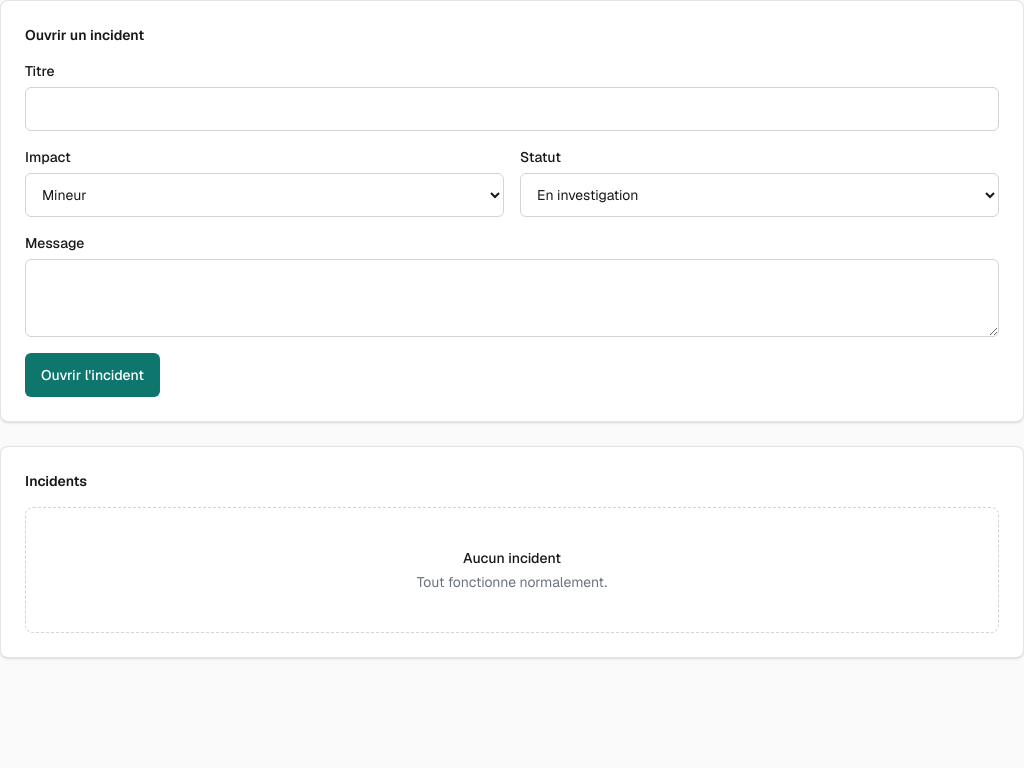
Test: StatusIncidentsPage › ouvre un nouvel incident
This screenshot has width=1024, height=768.
Check: the text "Aucun incident" is shown, box [463, 548, 561, 568]
Type "Panne" into the field labelled "Titre" at (512, 109), box [25, 87, 999, 131]
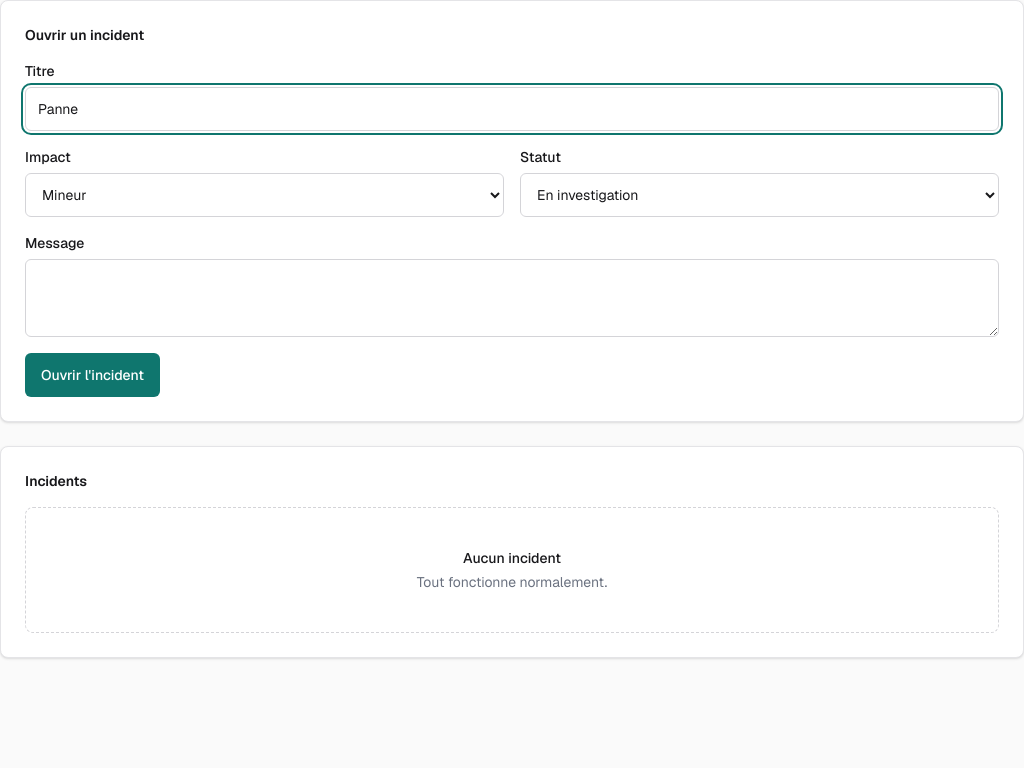
Type "Panne détectée." into the text box labelled "Message" at (512, 298), box [25, 259, 999, 337]
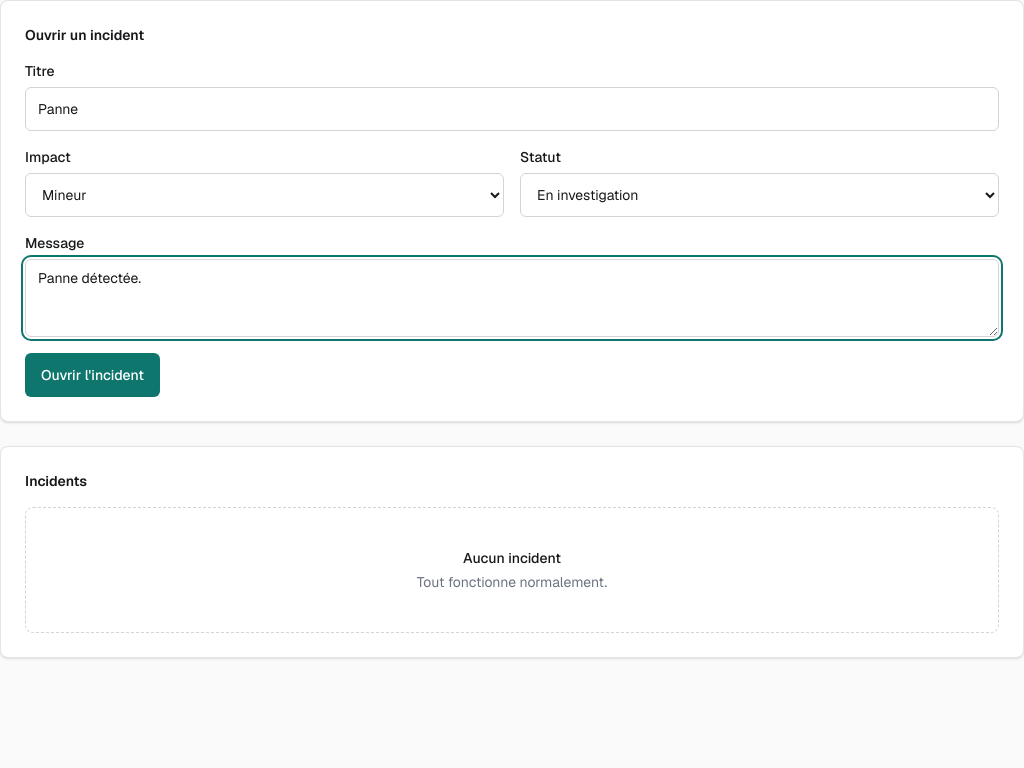
Click the button "Ouvrir l'incident" at (92, 375), box [25, 353, 160, 397]
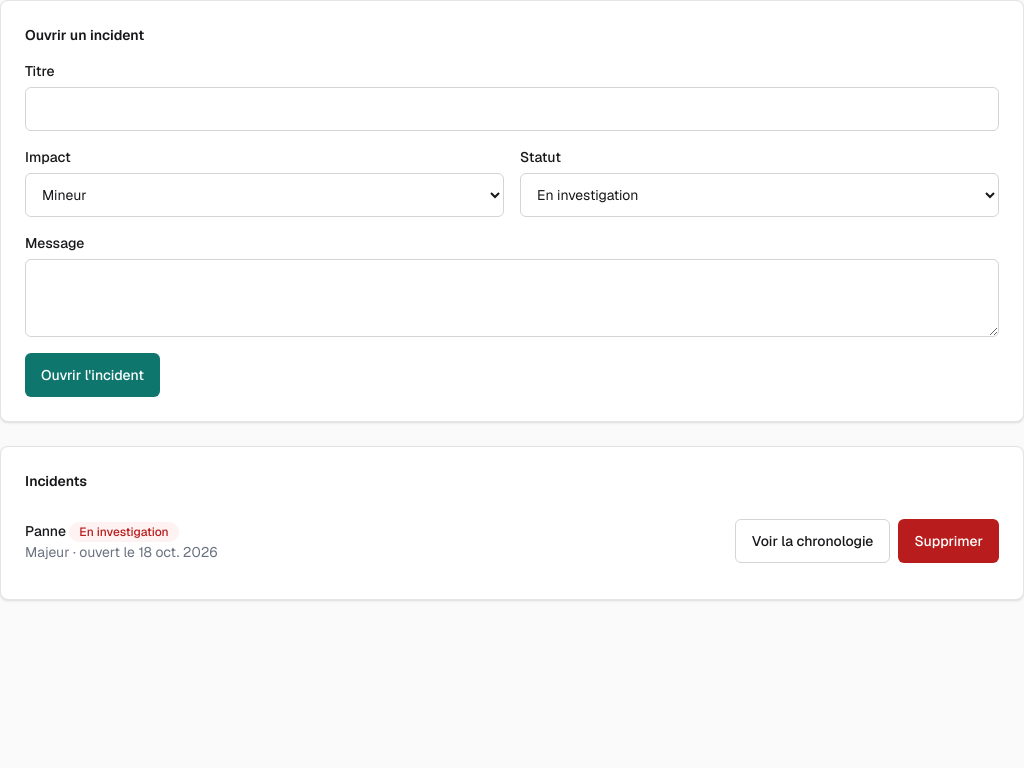
Check: the text "Panne" is shown, box [25, 522, 66, 540]
